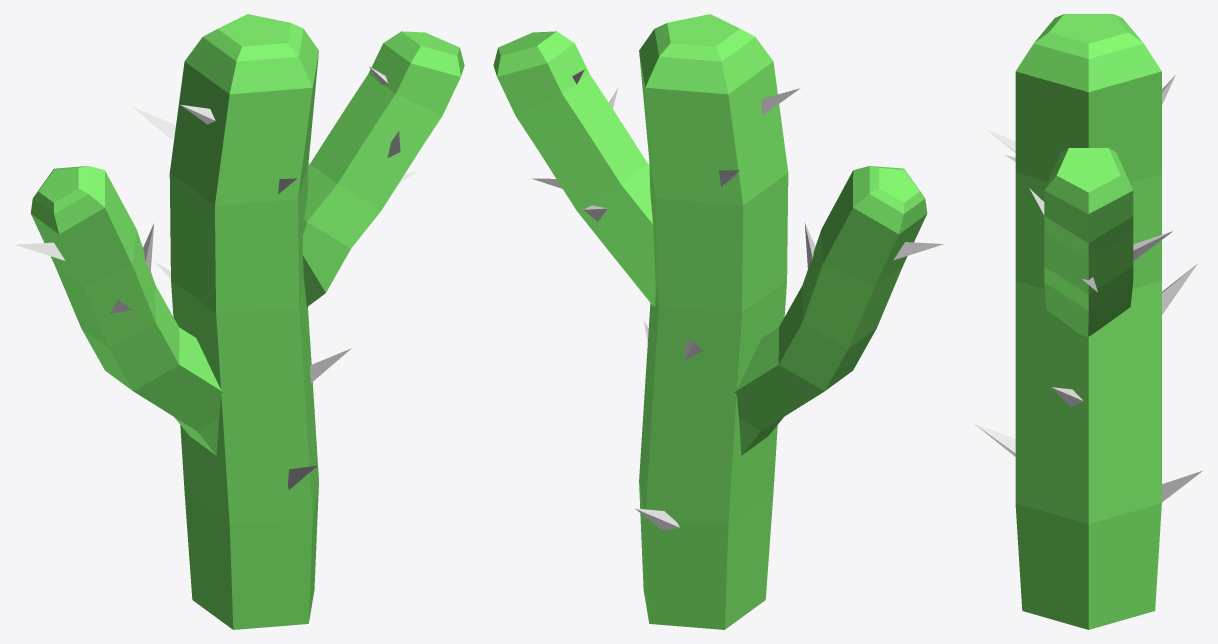
Rendered from krabongpech.fbx.
3 renders of one model, left to right at view 1: azimuth 30°, elevation 25°; view 2: azimuth 150°, elevation 25°; view 3: azimuth 270°, elevation 25°, orthographic.
Visible parts, largest first — view 1: Cone; view 2: Cone; view 3: Cone.
Boxes of the visible parts, left/top/right/bottom form: Cone: left=15, top=14, right=464, bottom=629; Cone: left=493, top=14, right=943, bottom=629; Cone: left=974, top=14, right=1203, bottom=629.
Size of the model in its own units: 452 by 549 by 200.
